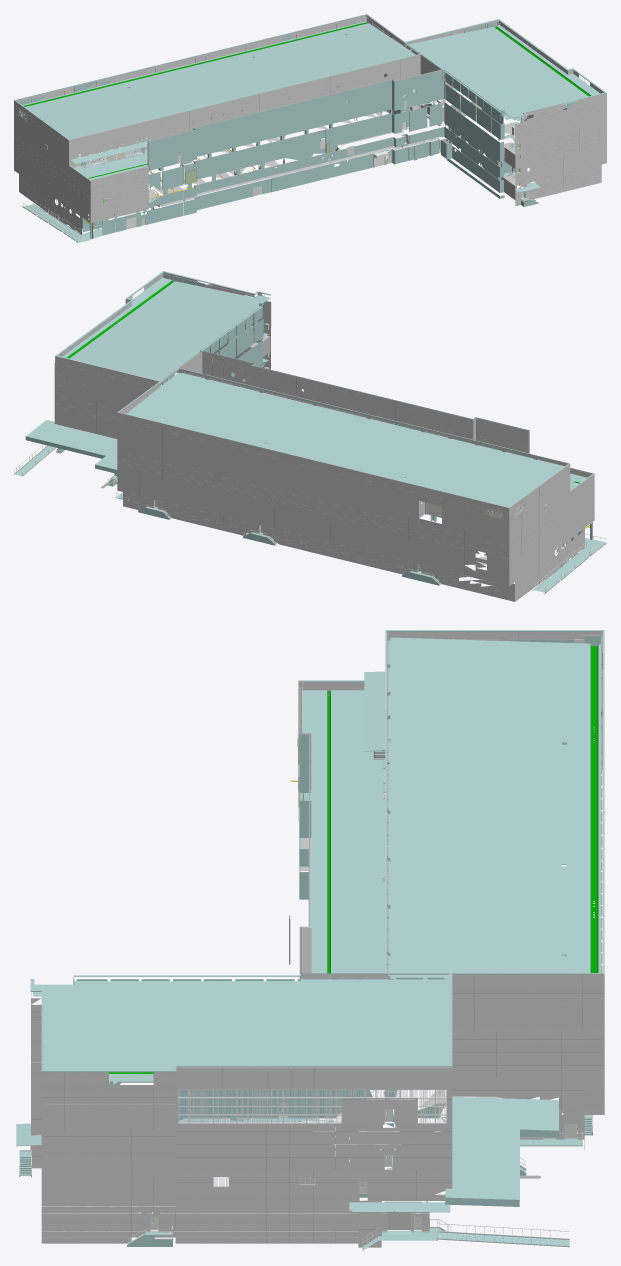
File: detail-envelope-0-all.glb
3 views of the same model, one above another, from view 1: azimuth 30°, elevation 25°; view 2: azimuth 150°, elevation 25°; view 3: azimuth 270°, elevation 25° (orthographic). The views are drawn at different scales.
Size of the model in its own units: 139 by 25.27 by 75.54.
